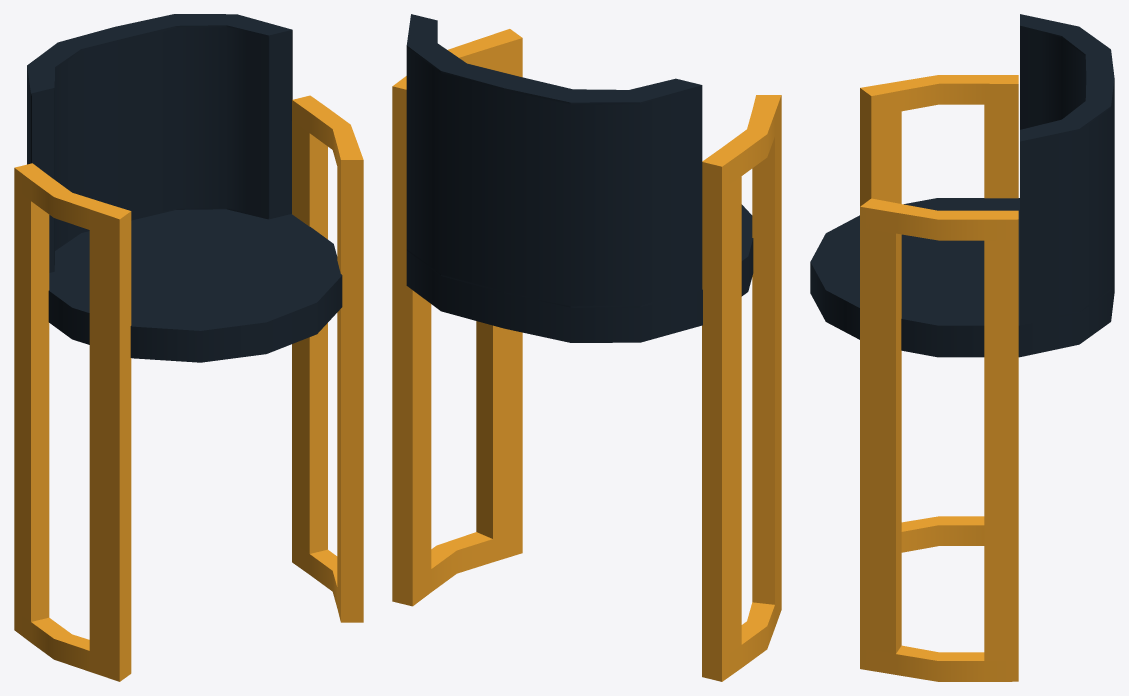
Rendered from Chair_Level_04.fbx.
The picture shows the model from 3 angles, left to right: view 1: azimuth 30°, elevation 25°; view 2: azimuth 150°, elevation 25°; view 3: azimuth 270°, elevation 25°; orthographic projection. The views are drawn at different scales.
Parts seen in each view (by area): view 1: Chair_Level_04:polySurface1; view 2: Chair_Level_04:polySurface1; view 3: Chair_Level_04:polySurface1.
Part boxes in pixels (left/top/right/bottom): Chair_Level_04:polySurface1: left=14, top=14, right=363, bottom=681; Chair_Level_04:polySurface1: left=392, top=14, right=781, bottom=681; Chair_Level_04:polySurface1: left=810, top=14, right=1114, bottom=681.
Bounding box in the file's own units: 165 × 282 × 146.
